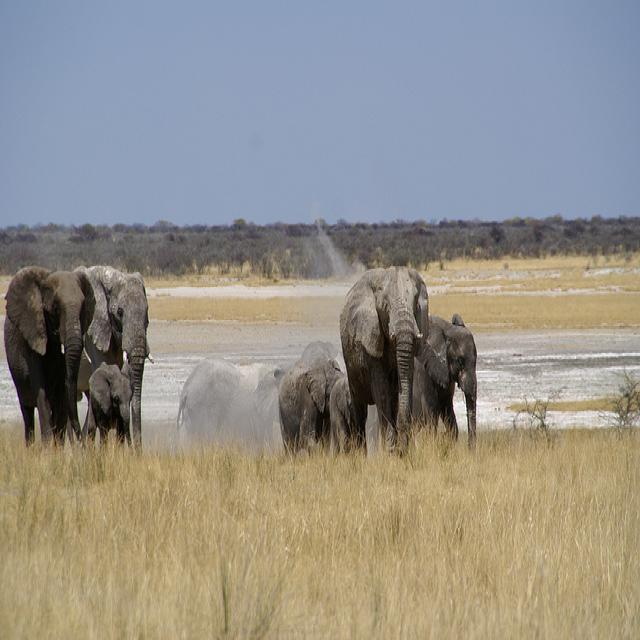Elephant: (339, 265, 429, 456), (176, 358, 289, 458), (412, 311, 477, 452), (277, 344, 356, 456), (81, 362, 133, 451)
